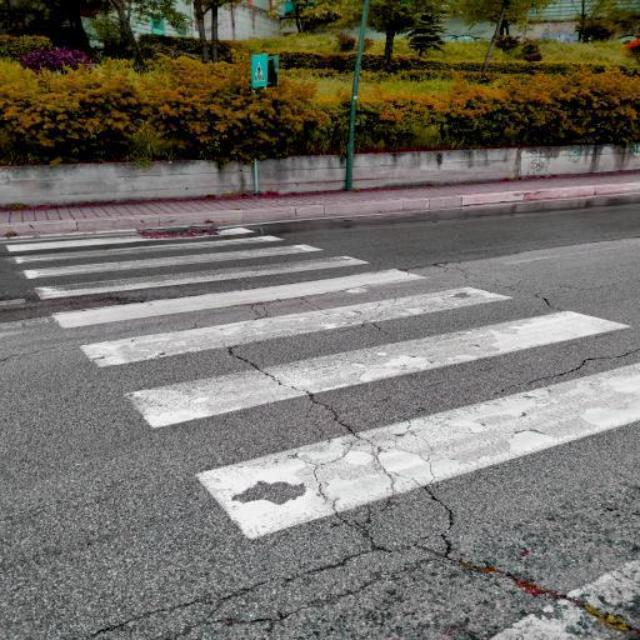sidewalk: (11, 219, 640, 640)
